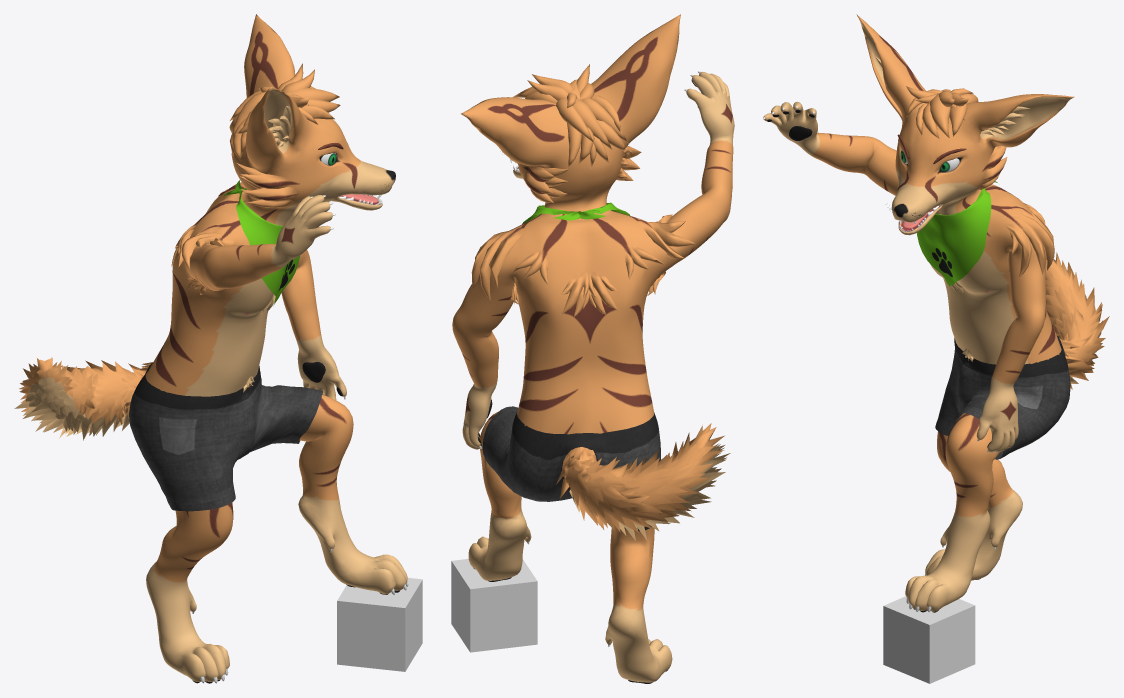
Rendered from Lio_render.fbx.
The picture shows the model from 3 angles, left to right: view 1: azimuth 30°, elevation 25°; view 2: azimuth 150°, elevation 25°; view 3: azimuth 270°, elevation 25°; orthographic projection. The views are drawn at different scales.
Visible parts, largest first — view 1: Body, Fluff, Cube.001; view 2: Body, Fluff, Cube.001; view 3: Body, Fluff, Cube.001.
Part boxes in pixels (x1,y1,x2,y2): Body: [33, 14, 408, 683]; Fluff: [14, 106, 299, 440]; Cube.001: [337, 577, 422, 671]; Body: [452, 14, 734, 683]; Fluff: [471, 146, 730, 540]; Cube.001: [451, 559, 537, 652]; Body: [763, 14, 1092, 612]; Fluff: [875, 56, 1109, 389]; Cube.001: [883, 596, 975, 683].
Bounding box in the file's own units: 95.77 × 172 × 92.45.
Materials: 4 (4 with a texture image).
